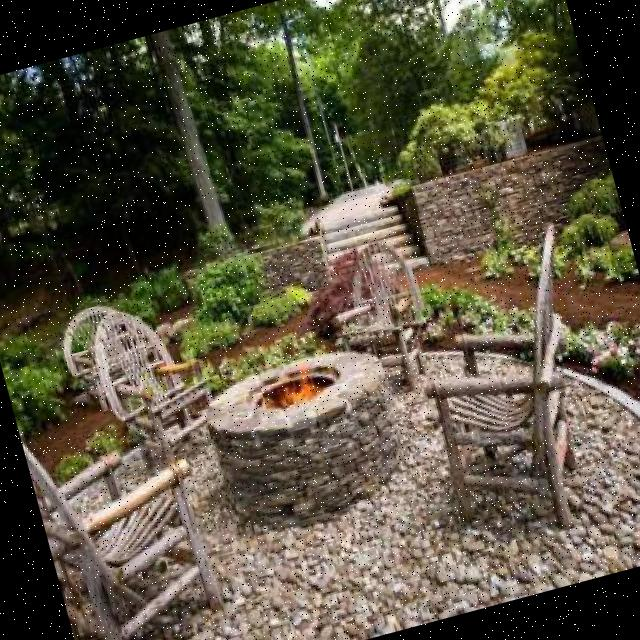fire: (260, 372, 328, 422)
